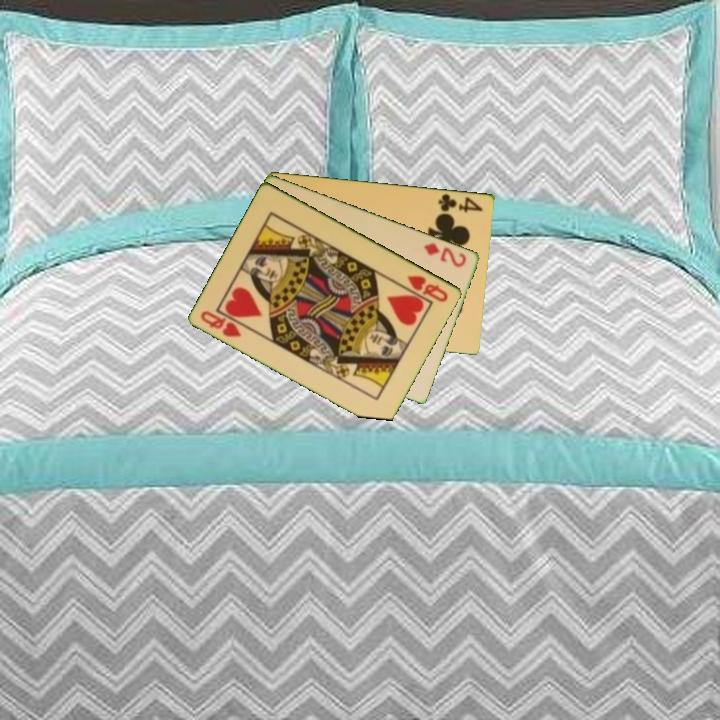2d: (420, 239, 470, 270)
4c: (435, 190, 486, 215)
Qh: (197, 307, 245, 340), (404, 272, 451, 305)
